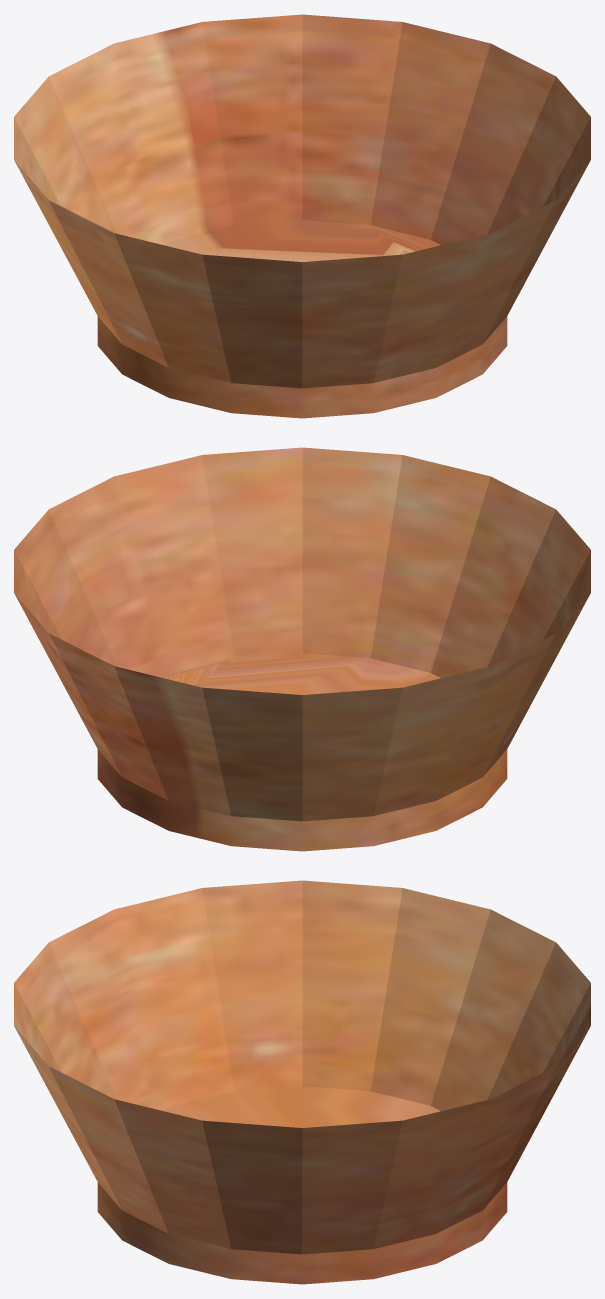
File: Bowl.FBX
3 views of the same model, one above another, from view 1: azimuth 30°, elevation 25°; view 2: azimuth 150°, elevation 25°; view 3: azimuth 270°, elevation 25° (orthographic).
Visible parts, largest first — view 1: Cylinder001; view 2: Cylinder001; view 3: Cylinder001.
Part boxes in pixels (x1,y1,x2,y2): Cylinder001: (14, 14, 590, 418); Cylinder001: (14, 447, 590, 851); Cylinder001: (14, 880, 590, 1284).
Bounding box in the file's own units: 23.35 × 8.45 × 22.99.
Materials: 1 (1 with a texture image).
